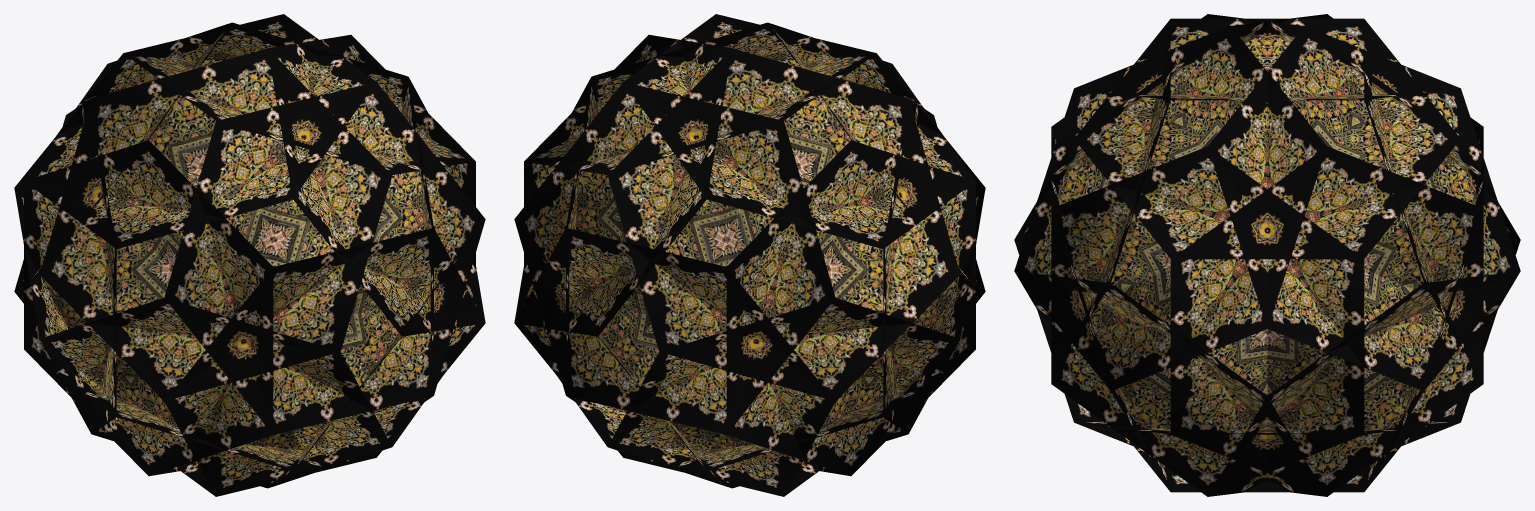
File: Rhombicosahedron2.gltf
3 renders of one model, left to right at view 1: azimuth 30°, elevation 25°; view 2: azimuth 150°, elevation 25°; view 3: azimuth 270°, elevation 25°, orthographic. The views are drawn at different scales.
Visible parts, largest first — view 1: Rhombicosahedron; view 2: Rhombicosahedron; view 3: Rhombicosahedron.
Boxes of the visible parts, bbox=[...] form: Rhombicosahedron: bbox=[14, 14, 485, 496]; Rhombicosahedron: bbox=[514, 14, 985, 496]; Rhombicosahedron: bbox=[1014, 14, 1520, 496].
Bounding box in the file's own units: 2.62 × 2.62 × 2.62.
1 material, 1 textured.
